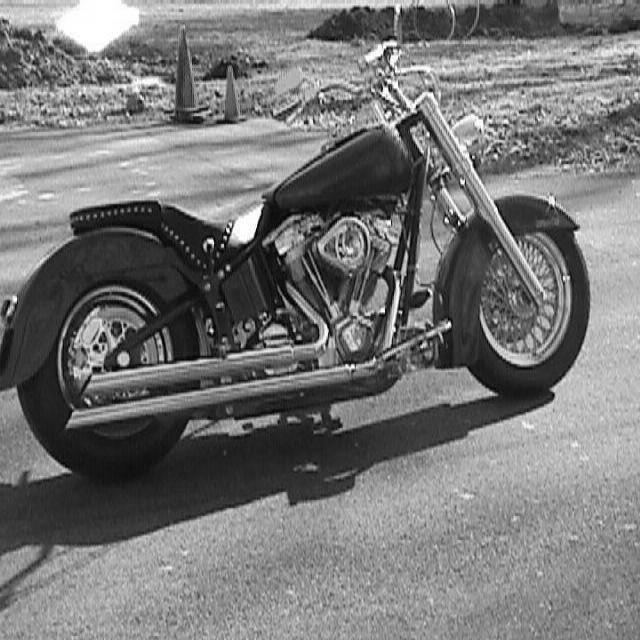Motorcycle: (0, 43, 591, 479)
